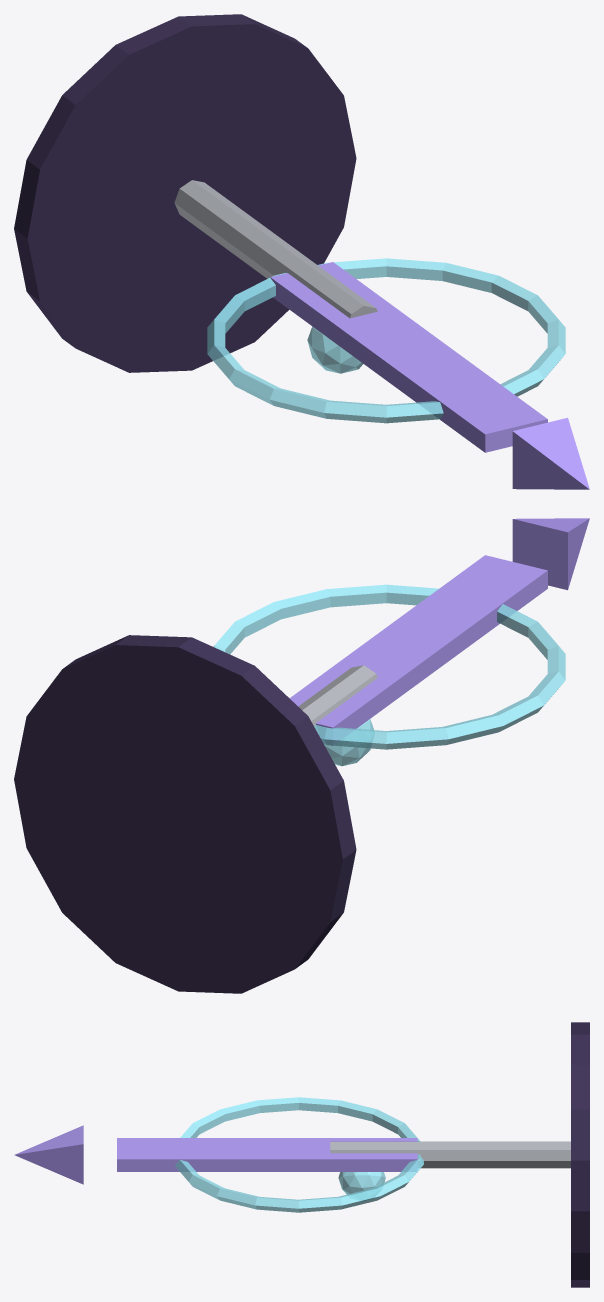
The model's file is 04_high_tier_magic_weapon_aura.glb.
3 views of the same model, one above another, from view 1: azimuth 30°, elevation 25°; view 2: azimuth 150°, elevation 25°; view 3: azimuth 270°, elevation 25° (orthographic). The views are drawn at different scales.
Visible parts, largest first — view 1: weapon_display_base, magic_blade_core, weapon_enchant_orbit, weapon_grip, magic_blade_tip, weapon_gem; view 2: weapon_display_base, magic_blade_core, weapon_enchant_orbit, magic_blade_tip, weapon_grip, weapon_gem; view 3: magic_blade_core, weapon_enchant_orbit, weapon_grip, weapon_display_base, magic_blade_tip, weapon_gem.
Part boxes in pixels (<box>): weapon_display_base: <box>14,14,356,372</box>; magic_blade_core: <box>270,262,547,452</box>; weapon_enchant_orbit: <box>207,258,565,423</box>; weapon_grip: <box>174,180,377,318</box>; magic_blade_tip: <box>512,417,589,489</box>; weapon_gem: <box>307,326,363,373</box>; weapon_display_base: <box>14,635,356,993</box>; magic_blade_core: <box>289,555,547,745</box>; weapon_enchant_orbit: <box>213,584,565,749</box>; magic_blade_tip: <box>512,518,589,590</box>; weapon_grip: <box>298,665,377,733</box>; weapon_gem: <box>324,719,373,766</box>; magic_blade_core: <box>117,1138,417,1171</box>; weapon_enchant_orbit: <box>175,1097,423,1212</box>; weapon_grip: <box>330,1141,570,1168</box>; weapon_display_base: <box>571,1022,589,1287</box>; magic_blade_tip: <box>14,1125,83,1184</box>; weapon_gem: <box>338,1172,385,1194</box>.
Bounding box in the file's own units: 0.84 × 0.84 × 1.82.
